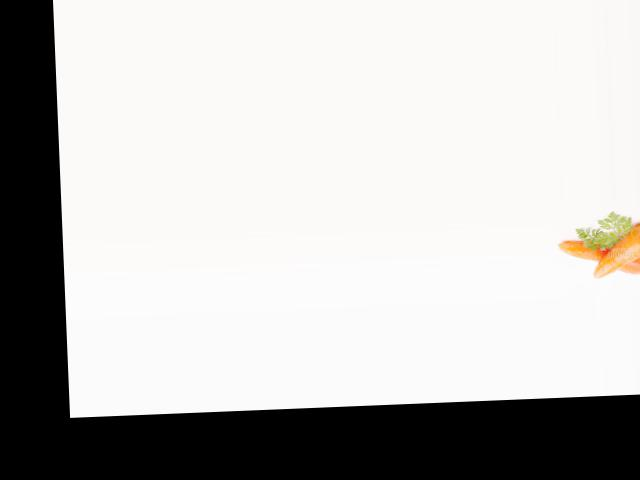carrot: (557, 236, 640, 278)
